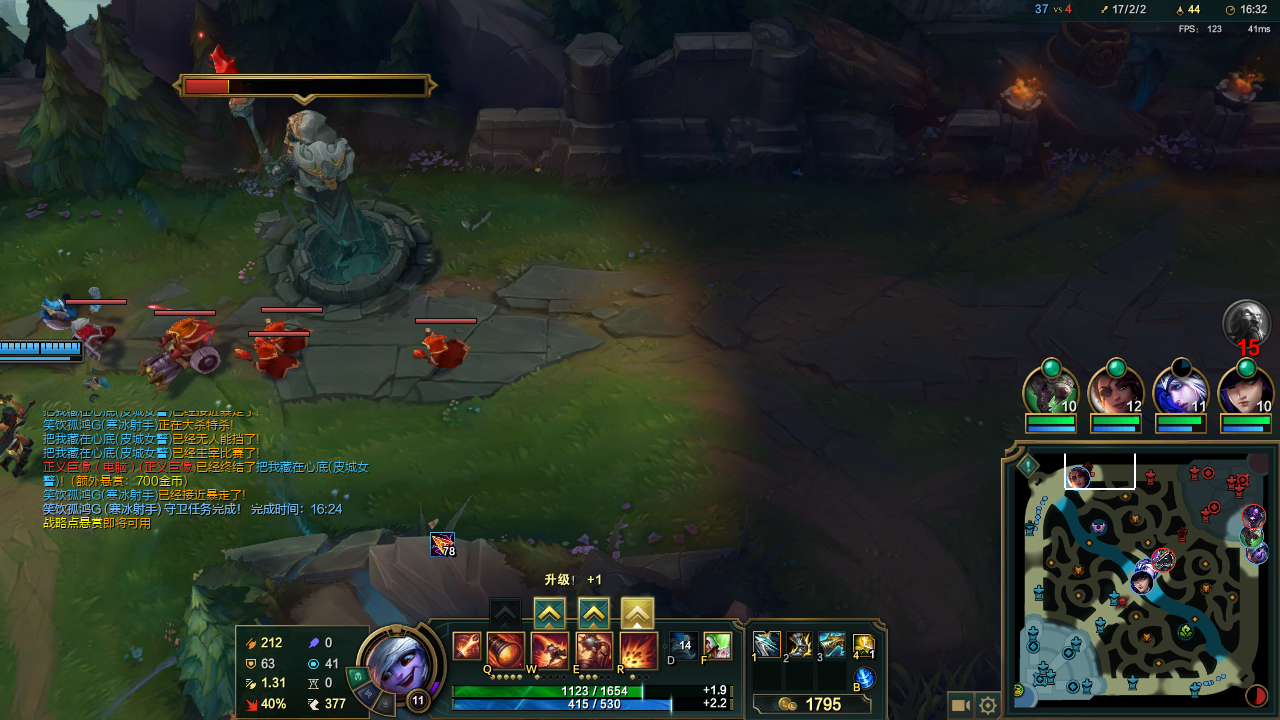DFFYT: (232, 105, 430, 305)
DFXB: (137, 322, 229, 390), (233, 340, 306, 396), (410, 329, 479, 380), (250, 314, 311, 349), (70, 321, 119, 359)
Tuijianshengji: (621, 599, 657, 629)
